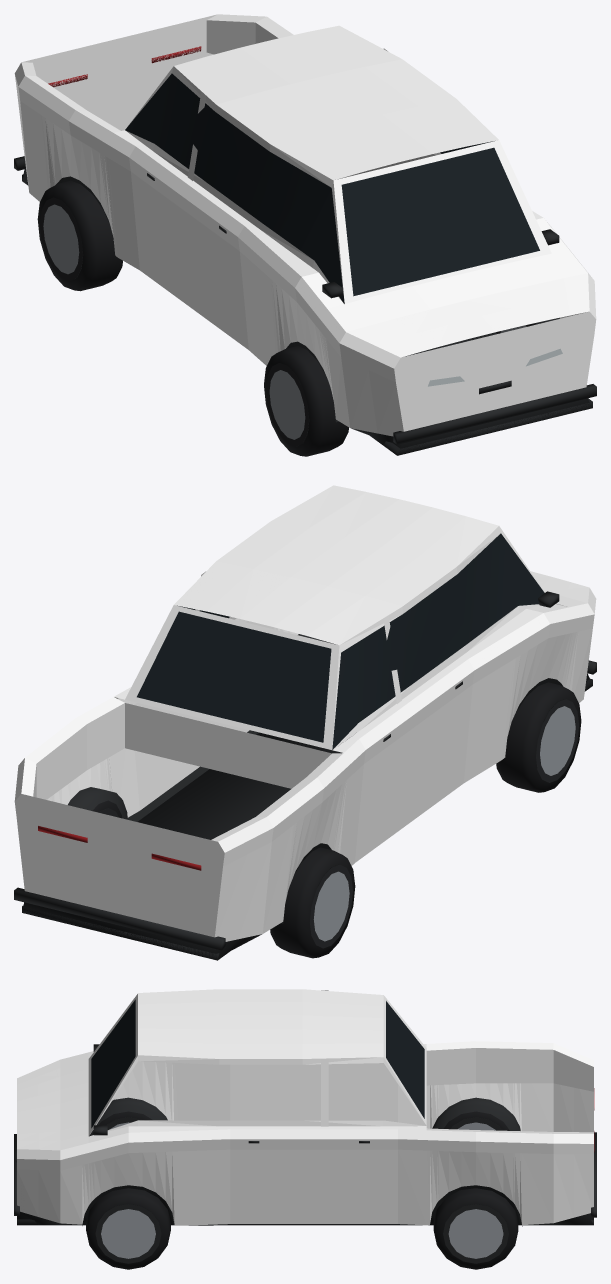
Rendered from voltane_aurora.glb.
3 views of the same model, one above another, from view 1: azimuth 30°, elevation 25°; view 2: azimuth 150°, elevation 25°; view 3: azimuth 270°, elevation 25° (orthographic). The views are drawn at different scales.
Visible parts, largest first — view 1: Body_Paint, Body_Details, Mount_RearLeft_Wheel_Details, Mount_FrontLeft_Wheel_Details; view 2: Body_Paint, Body_Details, Mount_FrontLeft_Wheel_Details, Mount_RearLeft_Wheel_Details; view 3: Body_Paint, Body_Details, Mount_RearRight_Wheel_Details, Mount_FrontRight_Wheel_Details, Mount_RearLeft_Wheel_Details, Mount_FrontLeft_Wheel_Details.
Boxes of the visible parts, <box> form: Body_Paint: <box>14,14,596,436</box>; Body_Details: <box>14,46,596,455</box>; Mount_RearLeft_Wheel_Details: <box>37,180,122,291</box>; Mount_FrontLeft_Wheel_Details: <box>264,346,348,456</box>; Body_Paint: <box>14,485,596,941</box>; Body_Details: <box>14,533,596,960</box>; Mount_FrontLeft_Wheel_Details: <box>496,682,581,792</box>; Mount_RearLeft_Wheel_Details: <box>270,847,355,958</box>; Body_Paint: <box>17,989,593,1225</box>; Body_Details: <box>14,999,596,1226</box>; Mount_RearRight_Wheel_Details: <box>433,1188,518,1269</box>; Mount_FrontRight_Wheel_Details: <box>86,1188,170,1269</box>; Mount_RearLeft_Wheel_Details: <box>443,1111,509,1130</box>; Mount_FrontLeft_Wheel_Details: <box>92,1111,152,1135</box>.
Bounding box in the file's own units: 2.24 × 2.05 × 5.43.
2 materials, 1 textured.
